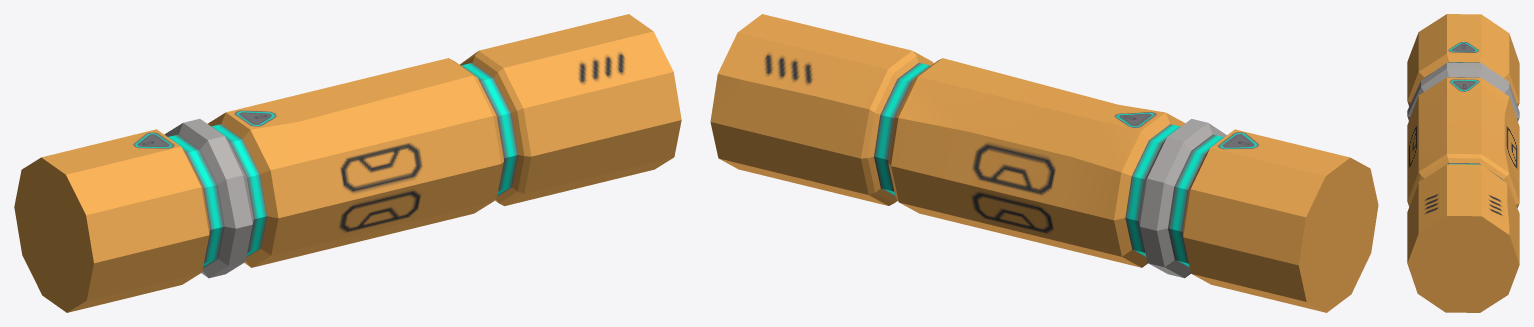
File: SM_Bld_Pipe_Large_Circular_01.fbx
3 views of the same model, side by side, from view 1: azimuth 30°, elevation 25°; view 2: azimuth 150°, elevation 25°; view 3: azimuth 270°, elevation 25° (orthographic). The views are drawn at different scales.
Visible parts, largest first — view 1: SM_Bld_Pipe_Large_Circular_01; view 2: SM_Bld_Pipe_Large_Circular_01; view 3: SM_Bld_Pipe_Large_Circular_01.
Boxes of the visible parts, x1,y1,x2,y2 form: SM_Bld_Pipe_Large_Circular_01: (14,14,681,312); SM_Bld_Pipe_Large_Circular_01: (710,14,1378,312); SM_Bld_Pipe_Large_Circular_01: (1407,14,1519,312).
Size of the model in its own units: 500 by 112 by 117.
